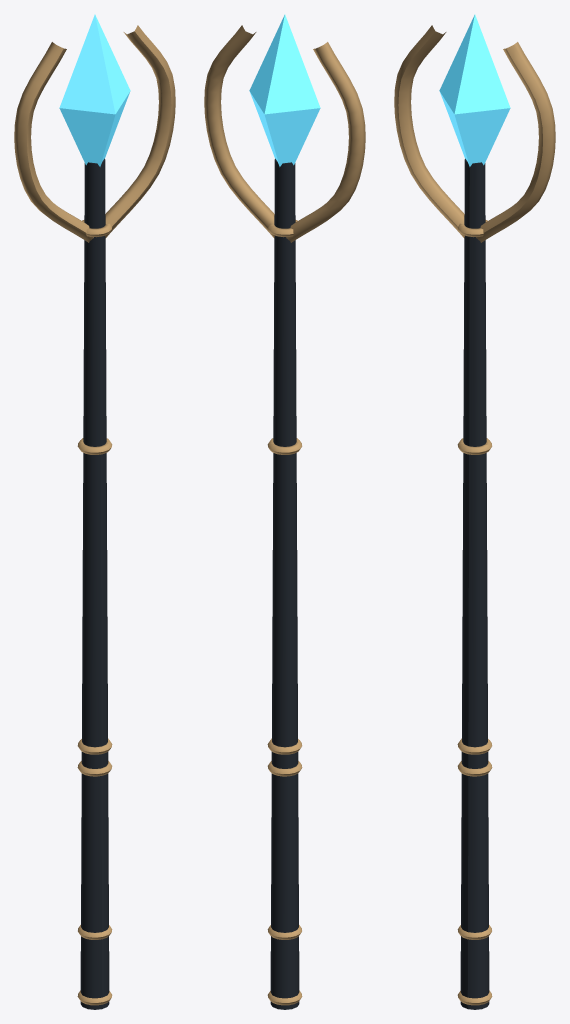
The model's file is staff.glb.
3 renders of one model, left to right at view 1: azimuth 30°, elevation 25°; view 2: azimuth 150°, elevation 25°; view 3: azimuth 330°, elevation 25°, orthographic.
Parts seen in each view (by area): view 1: staff_shaft, staff_inlay, staff_crystal; view 2: staff_shaft, staff_inlay, staff_crystal; view 3: staff_shaft, staff_inlay, staff_crystal.
Boxes of the visible parts, x1,y1,x2,y2 form: staff_shaft: [80, 158, 109, 1009]; staff_inlay: [14, 25, 175, 1005]; staff_crystal: [59, 14, 130, 166]; staff_shaft: [270, 158, 299, 1009]; staff_inlay: [204, 25, 365, 1005]; staff_crystal: [249, 14, 320, 166]; staff_shaft: [460, 158, 489, 1009]; staff_inlay: [394, 25, 555, 1005]; staff_crystal: [439, 14, 510, 166].
Bounding box in the file's own units: 0.3022 × 1.82 × 0.1368.
